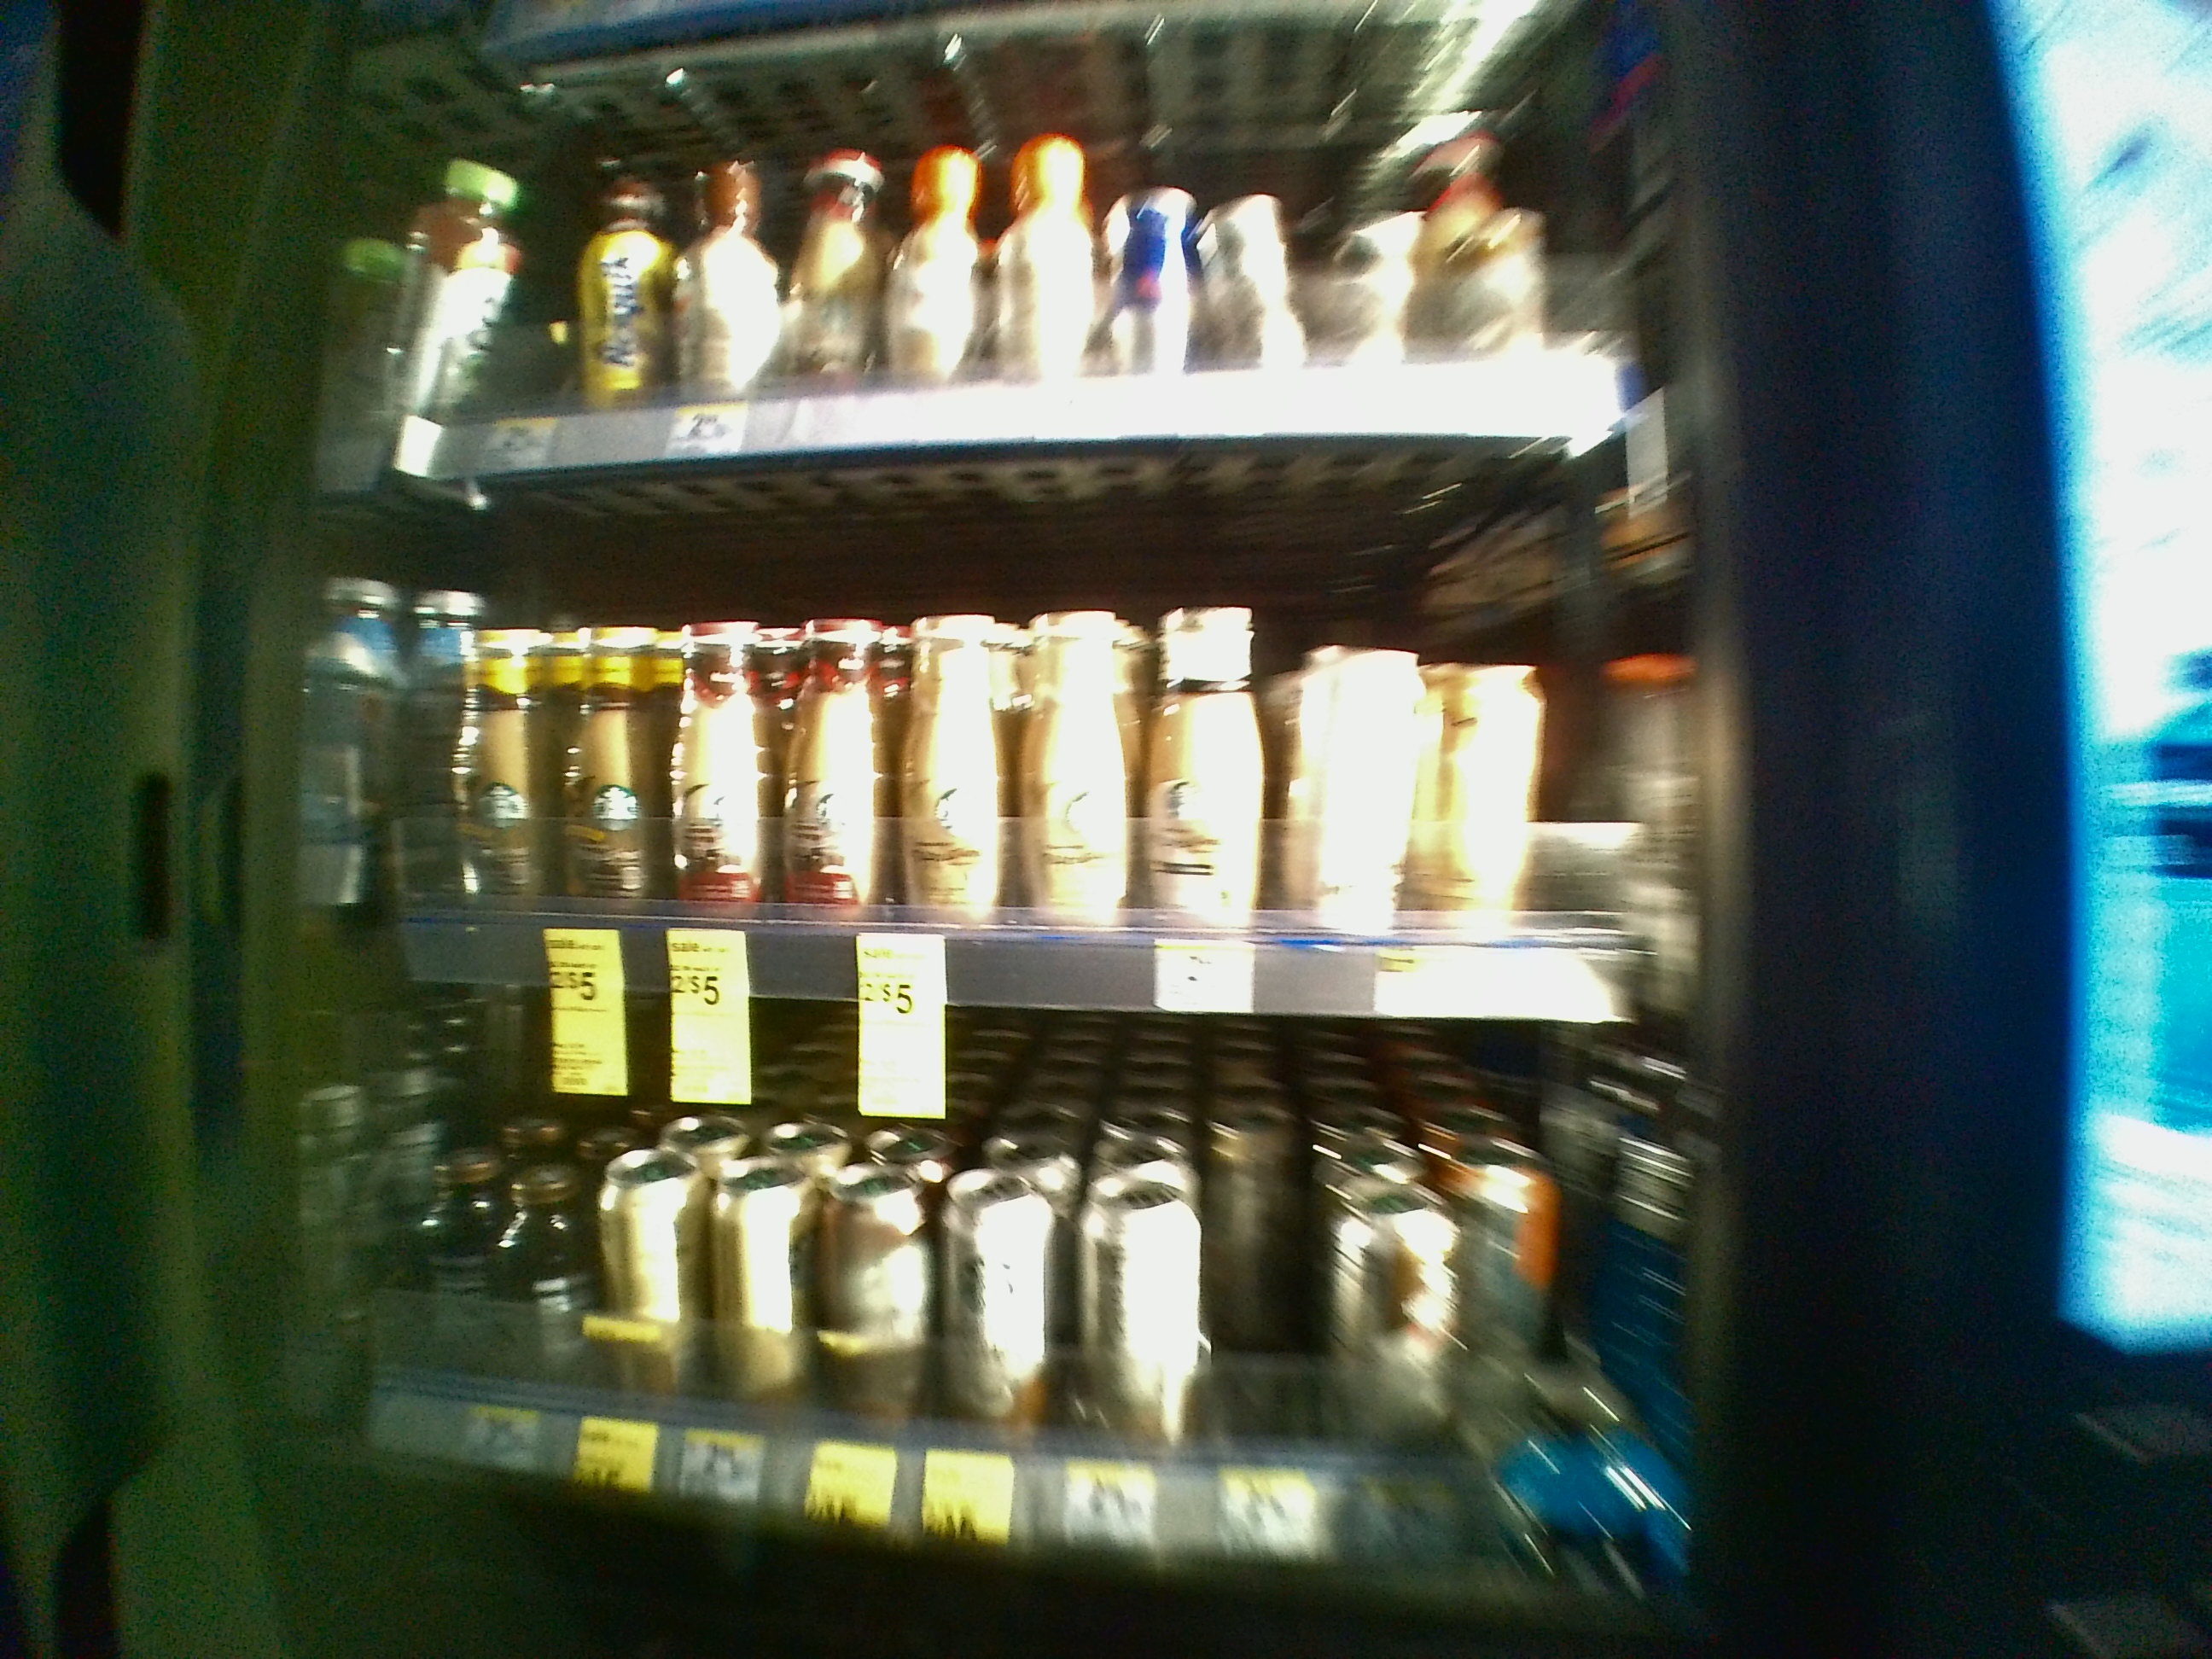shelf: (355, 471, 1756, 1023)
